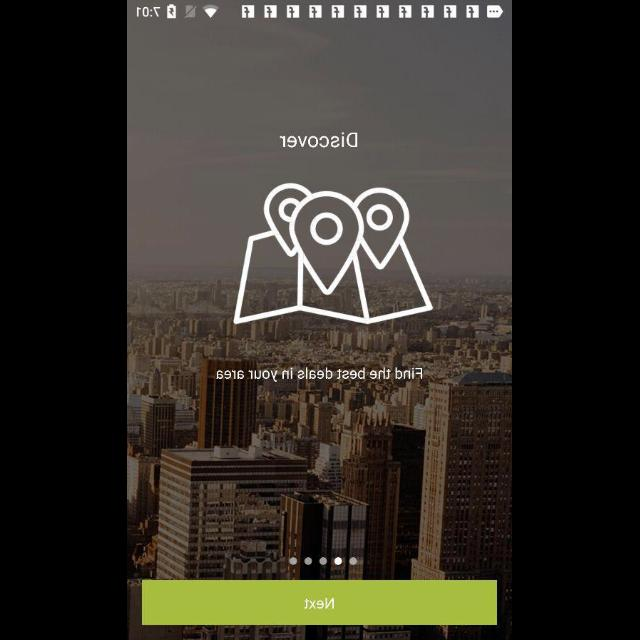backgroundimage: (128, 21, 512, 640)
image: (234, 183, 434, 325)
pageindicator: (290, 556, 358, 566)
text: (217, 368, 423, 382), (280, 132, 358, 150)
textbutton: (143, 581, 497, 625)
uppertaskbar: (128, 2, 512, 20)
